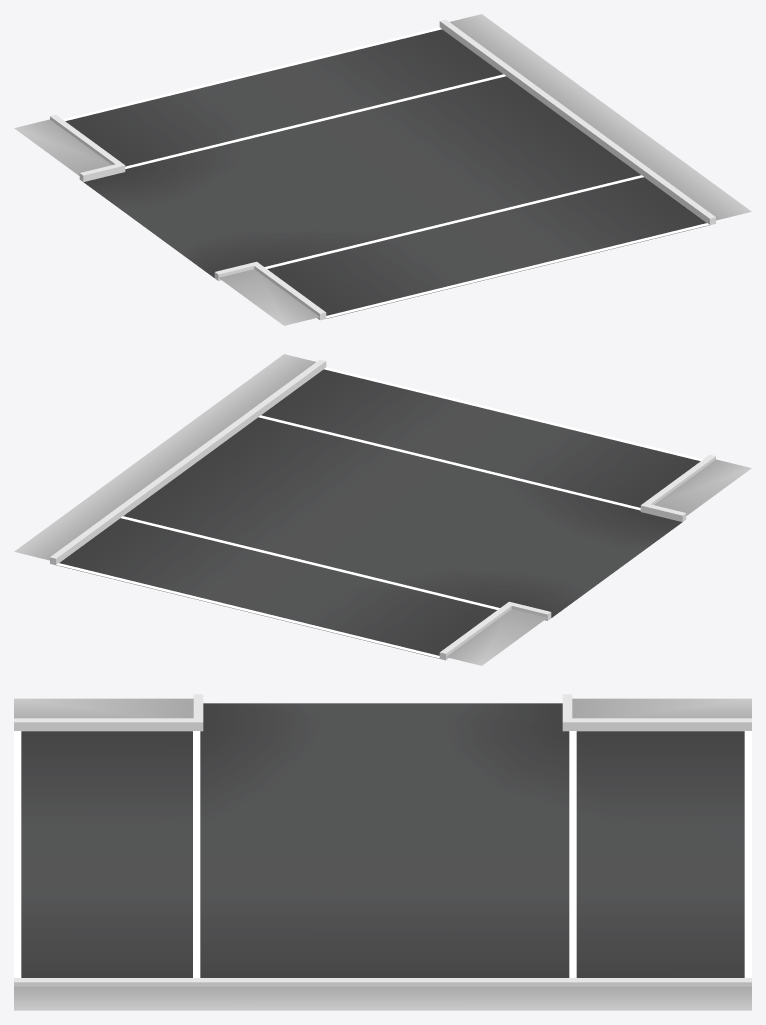
File: road_007.glb
The picture shows the model from 3 angles, top to bottom: view 1: azimuth 30°, elevation 25°; view 2: azimuth 150°, elevation 25°; view 3: azimuth 270°, elevation 25°; orthographic projection. The views are drawn at different scales.
Visible parts, largest first — view 1: road_007; view 2: road_007; view 3: road_007.
Boxes of the visible parts, x1,y1,x2,y2 form: road_007: (14, 14, 751, 325); road_007: (14, 354, 751, 665); road_007: (14, 694, 751, 1010).
Size of the model in its own units: 15 by 0.2 by 15.
1 material, 1 textured.
